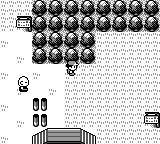leer: (16, 16, 32, 32), (145, 112, 159, 127)
main: (66, 61, 79, 75)
no-caminable: (32, 0, 159, 64), (32, 128, 95, 143), (33, 97, 47, 127)
npc: (17, 77, 30, 92)
